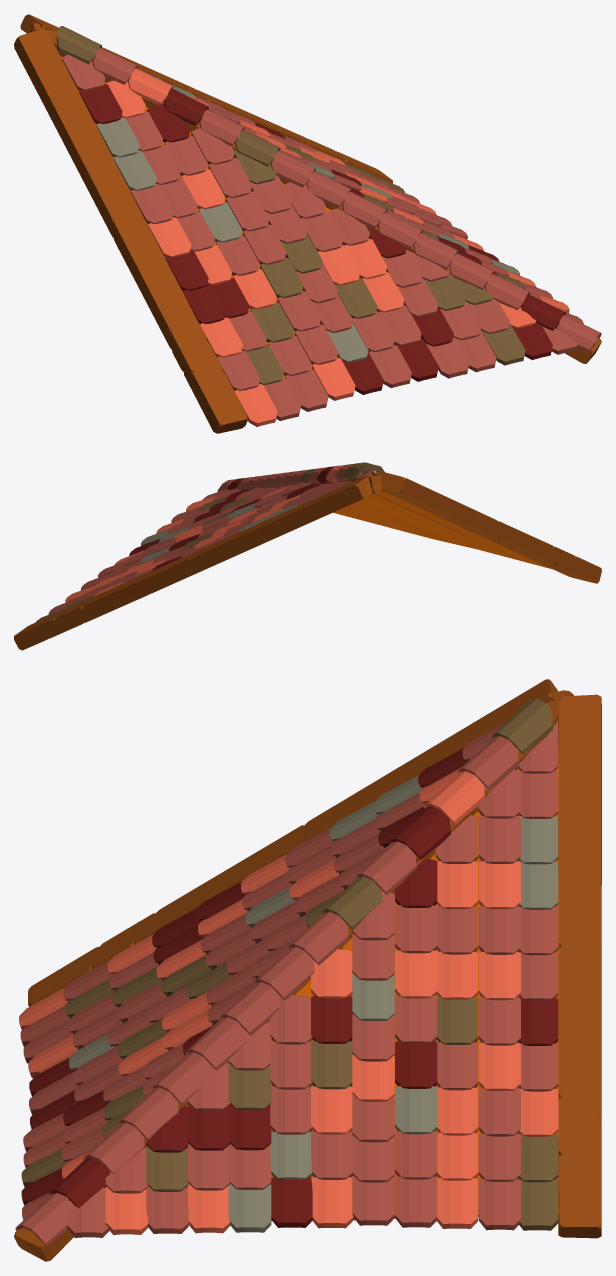
Rendered from HalfRoofBend.fbx.
3 views of the same model, one above another, from view 1: azimuth 30°, elevation 25°; view 2: azimuth 150°, elevation 25°; view 3: azimuth 270°, elevation 25° (orthographic). The views are drawn at different scales.
Parts seen in each view (by area): view 1: HalfRoofBend_LOD0; view 2: HalfRoofBend_LOD0; view 3: HalfRoofBend_LOD0.
Part boxes in pixels (box(x1,y1,x2,y2)): HalfRoofBend_LOD0: box(14, 14, 601, 433); HalfRoofBend_LOD0: box(14, 462, 601, 650); HalfRoofBend_LOD0: box(14, 679, 601, 1261).
Size of what is drawn, in the model's own units: 2035 by 1349 by 2076.
